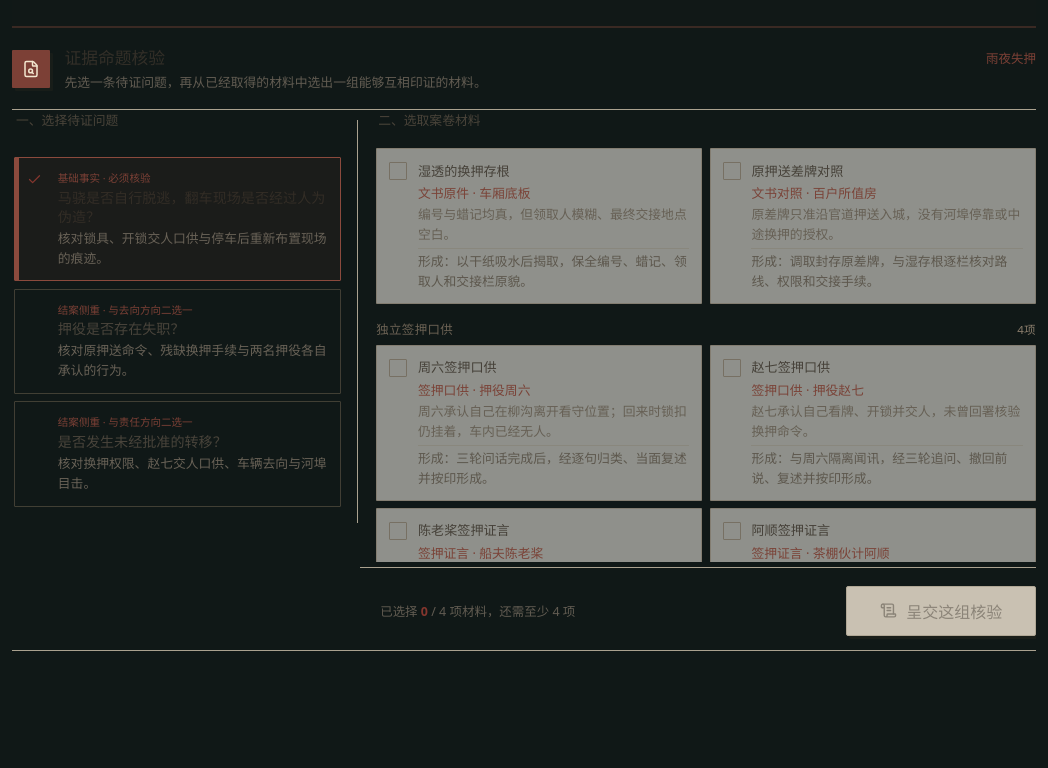
Test case: Chapter2Case1VerificationWorkbench › returns the material list to the top when switching propositions
This screenshot has width=1048, height=768.
(page scrolled)
Click the radio button labelled "结案侧重 · 与去向方向二选一 押役是否存在失职？ 核对原押送命令、残缺换押手续与两名押役各自承认的行为。" at (178, 341), box [14,289,341,394]
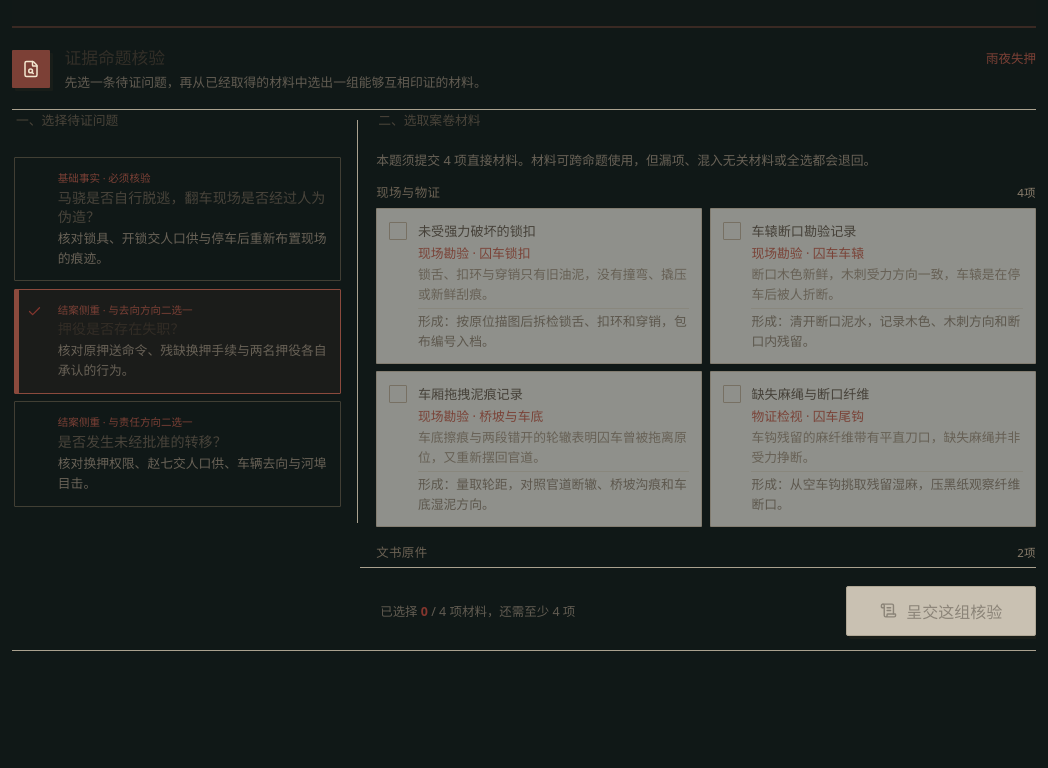
Now the heading "现场与物证 4项" is shown, box [376,183,1036,201]
